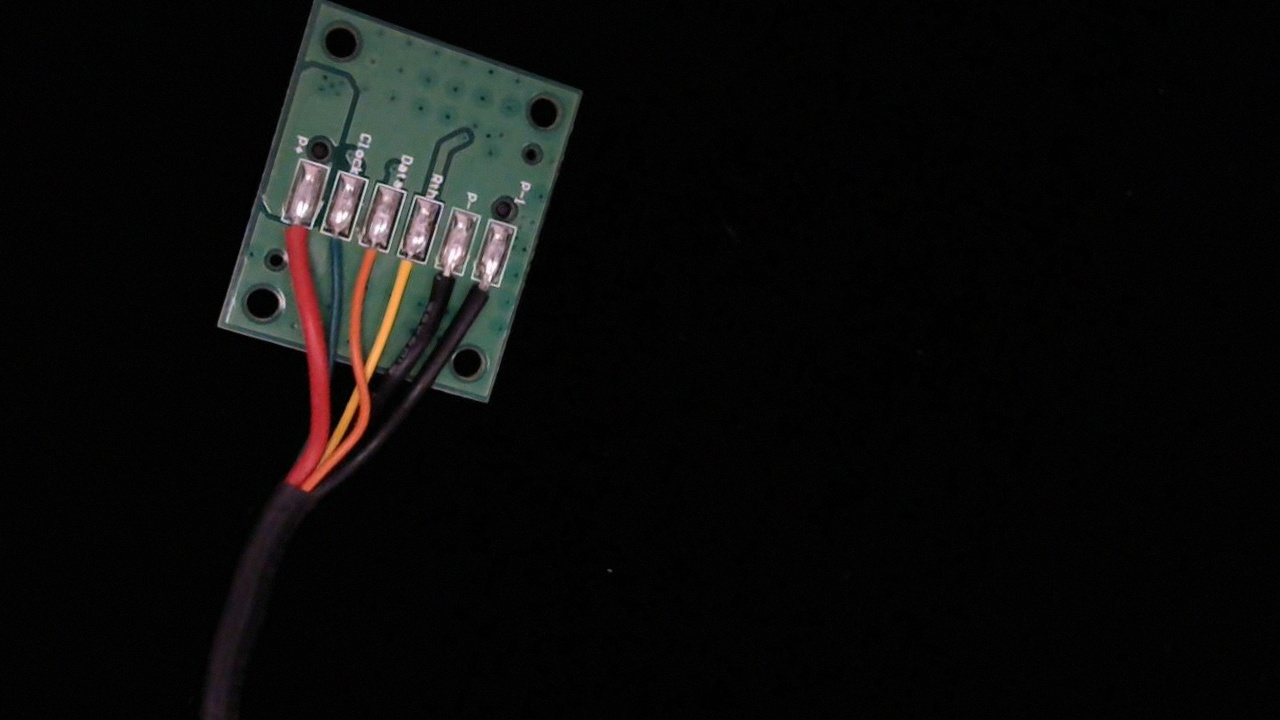Black: (414, 248, 469, 327)
Black1: (456, 262, 507, 336)
Green: (302, 211, 356, 288)
Orange: (343, 224, 396, 302)
Red: (266, 197, 319, 274)
Yellow: (377, 235, 432, 316)
